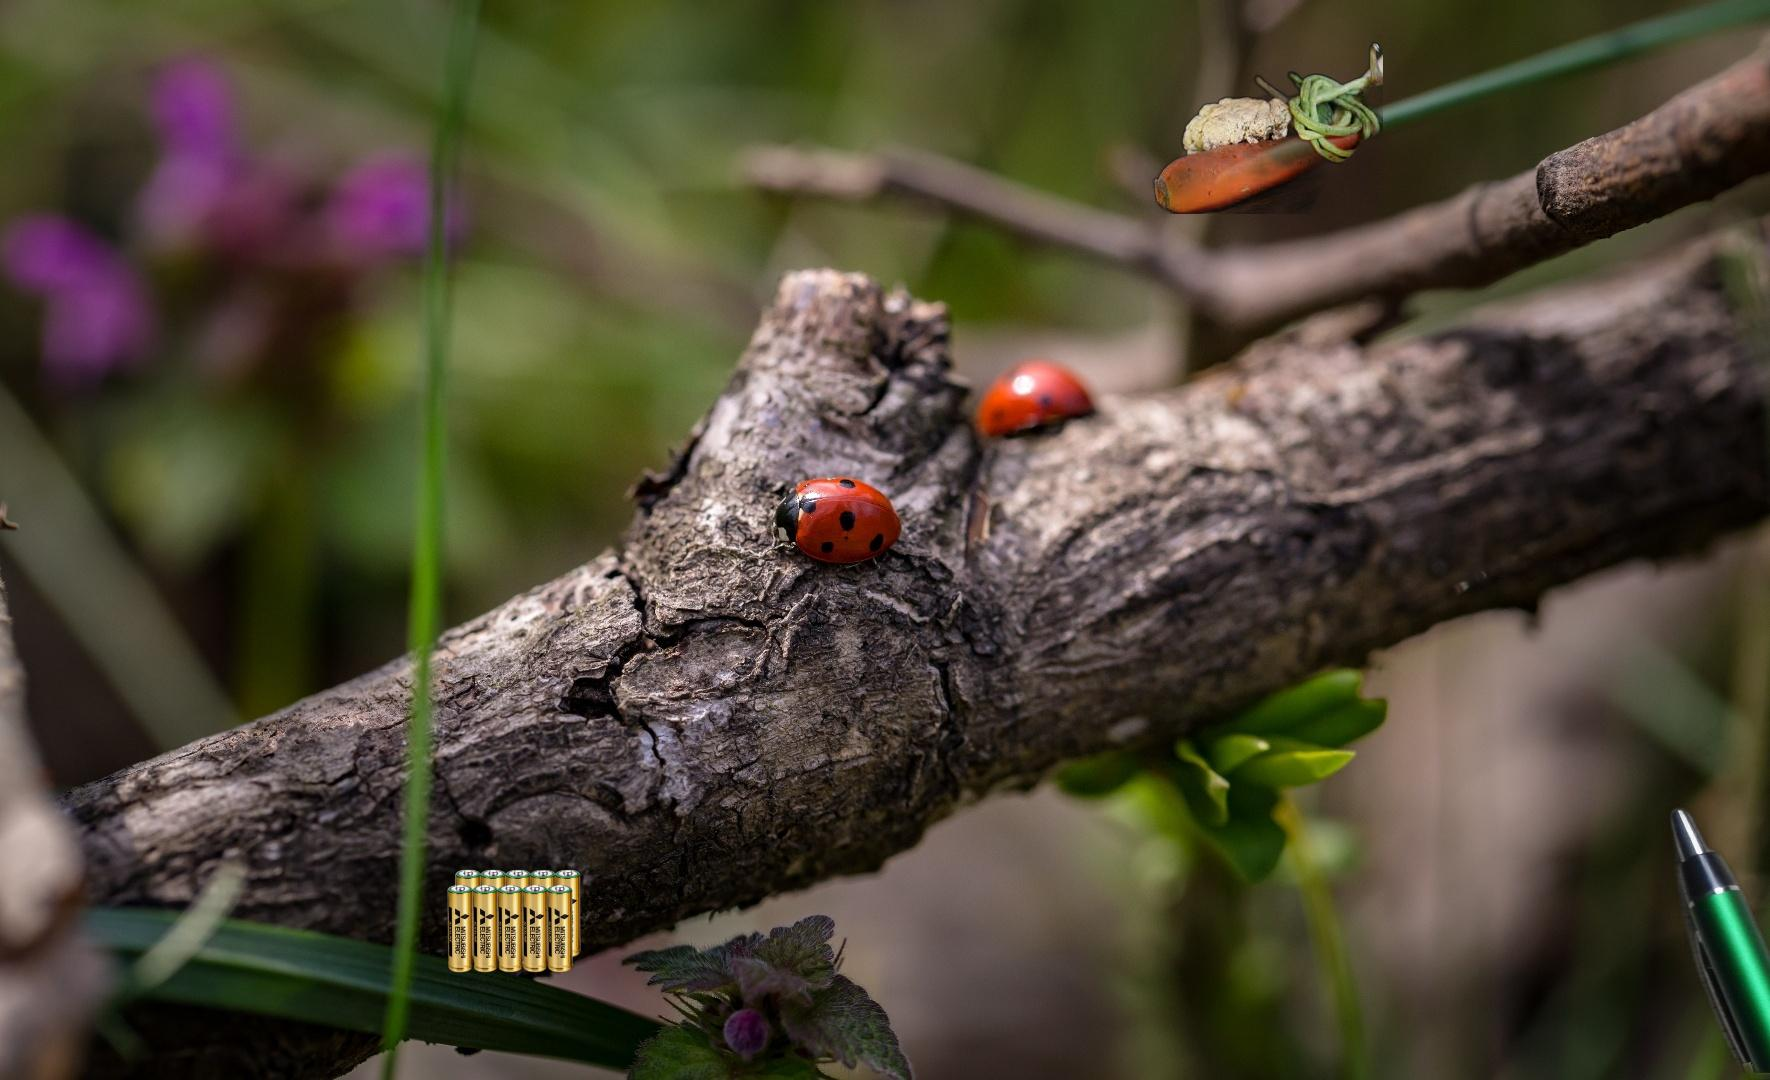battery: (444, 868, 584, 975)
biological: (1145, 32, 1383, 214)
penholder: (1661, 733, 1770, 1080)
